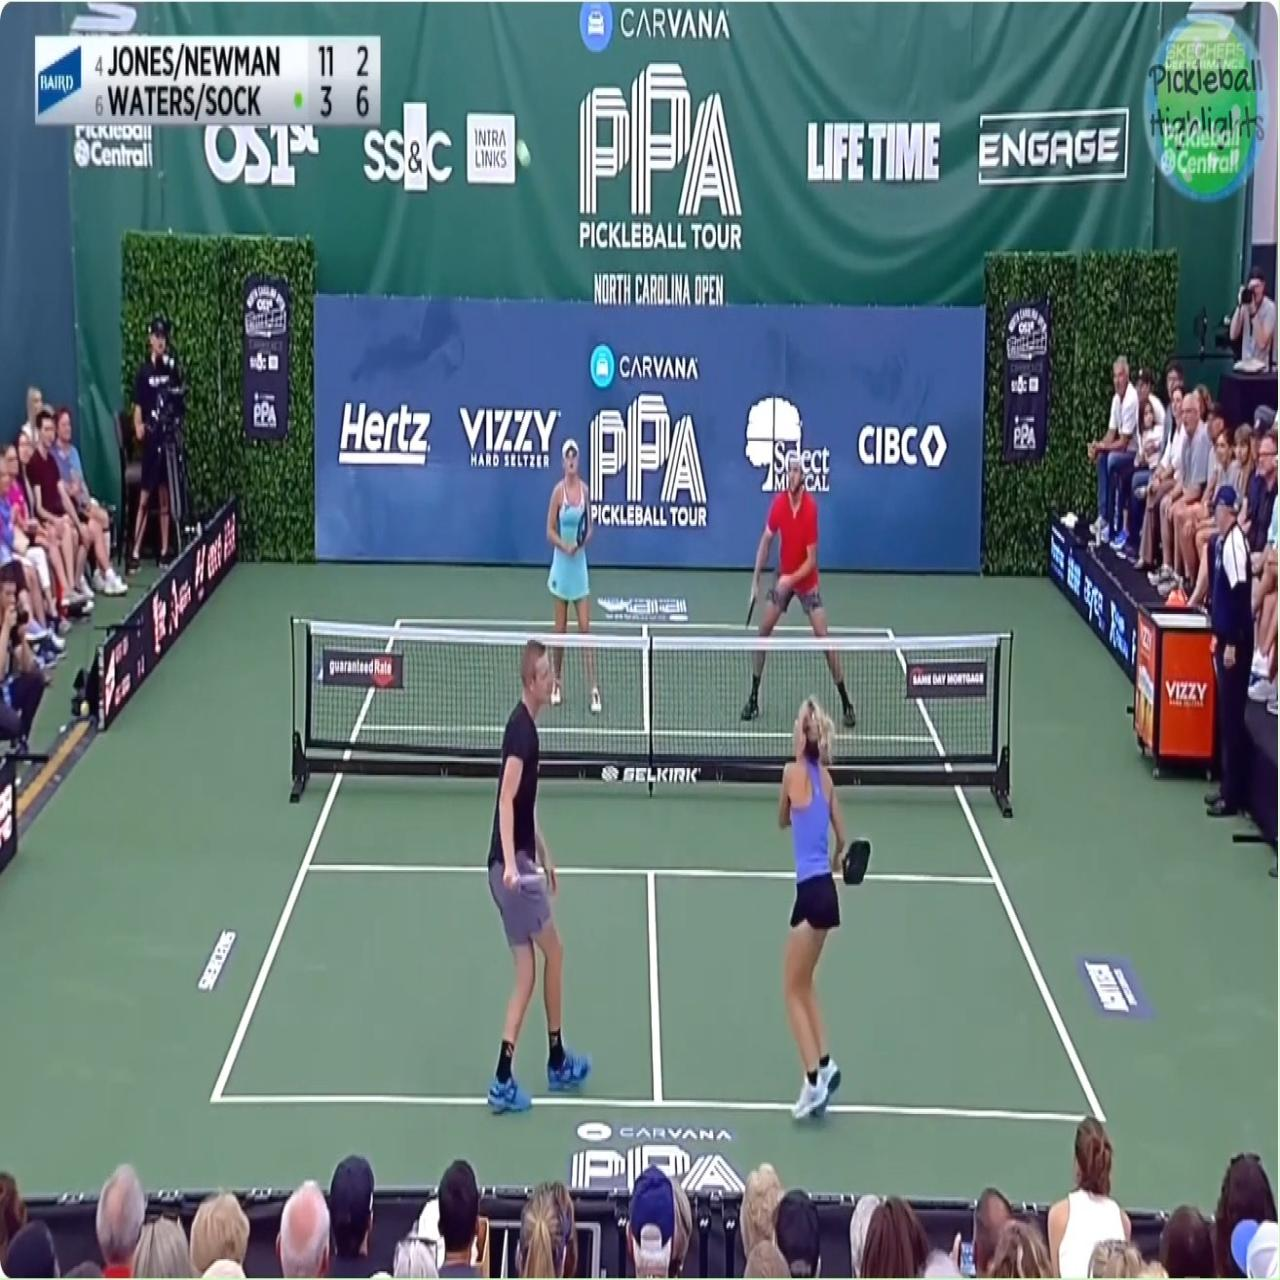pickleball: (516, 138, 531, 166)
